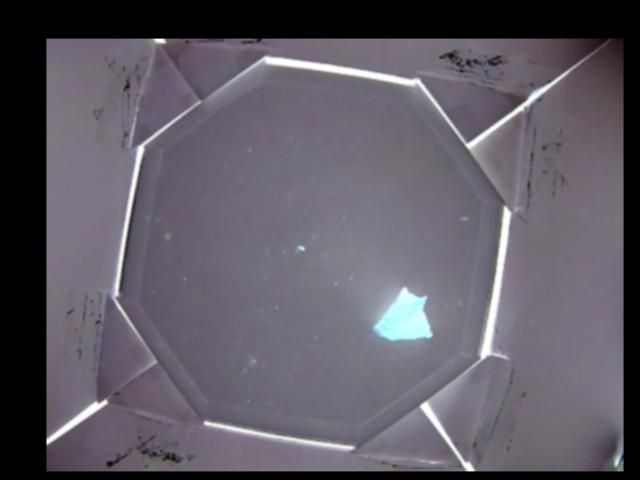Brisk: (371, 286, 432, 340)
